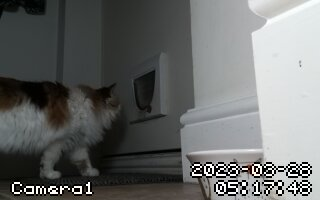clara: (5, 72, 124, 182)
